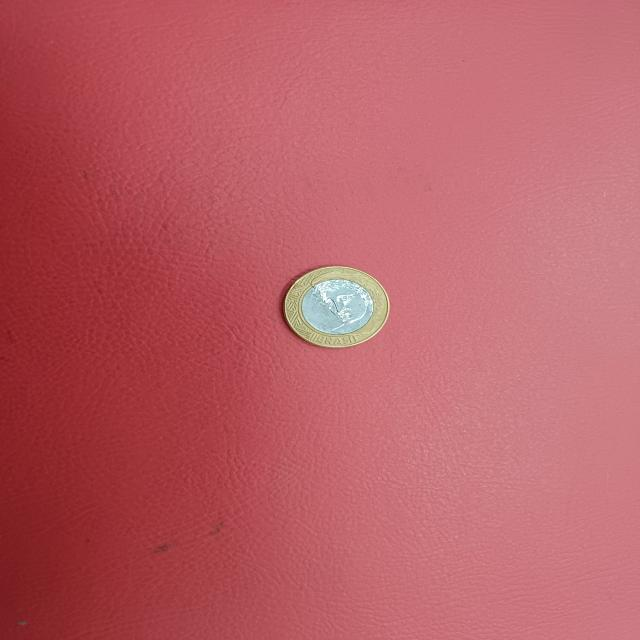1 real: (278, 263, 390, 350)
